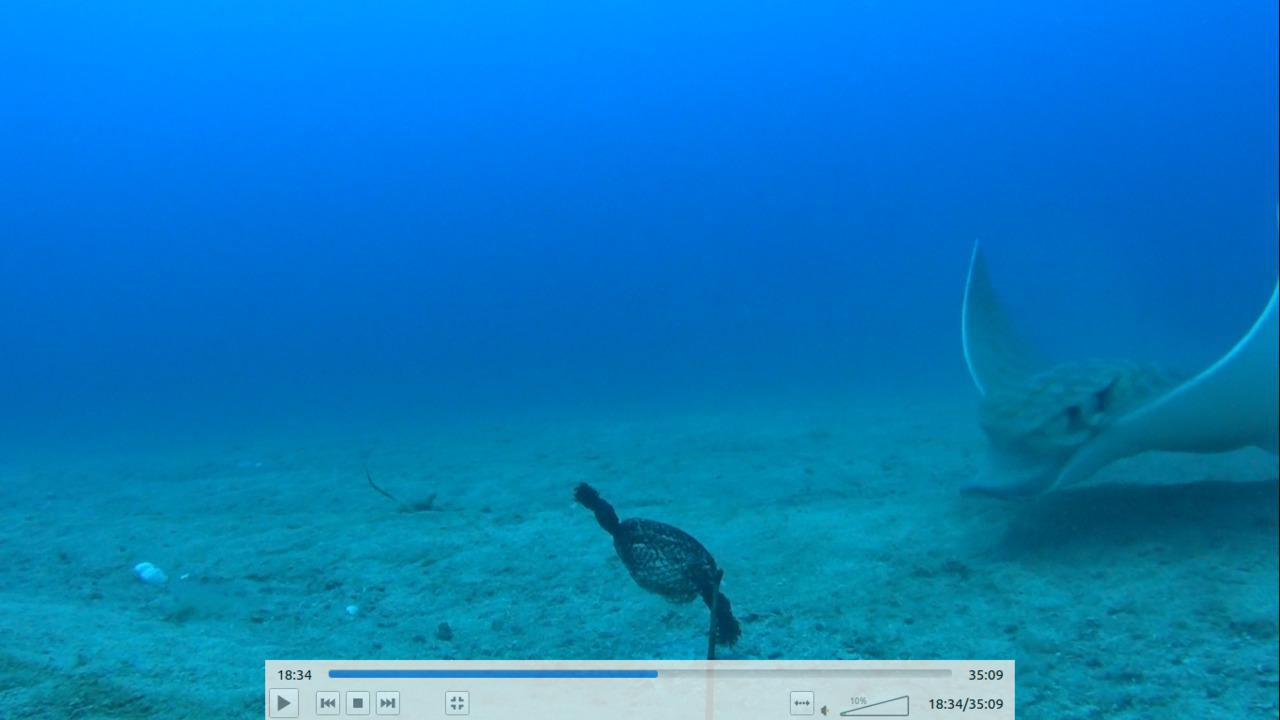myliobatis: (942, 228, 1279, 517)
